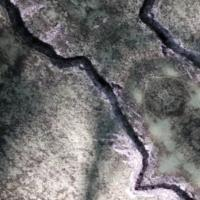crack: (0, 0, 199, 198)
